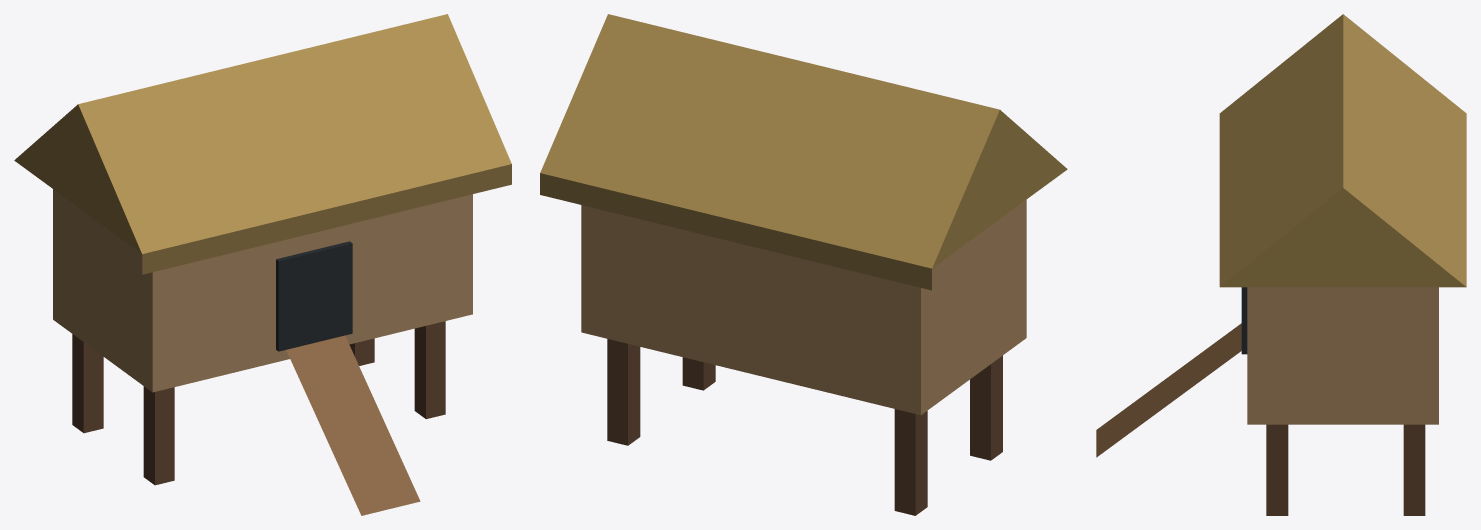
File: hen_coop.glb
3 renders of one model, left to right at view 1: azimuth 30°, elevation 25°; view 2: azimuth 150°, elevation 25°; view 3: azimuth 270°, elevation 25°, orthographic. The views are drawn at different scales.
Parts seen in each view (by area): view 1: hen_coop; view 2: hen_coop; view 3: hen_coop.
Part boxes in pixels (x1,y1,x2,y2): hen_coop: (14, 14, 511, 515); hen_coop: (540, 14, 1067, 515); hen_coop: (1096, 14, 1466, 515).
Bounding box in the file's own units: 1.5 × 1.4 × 1.35.
